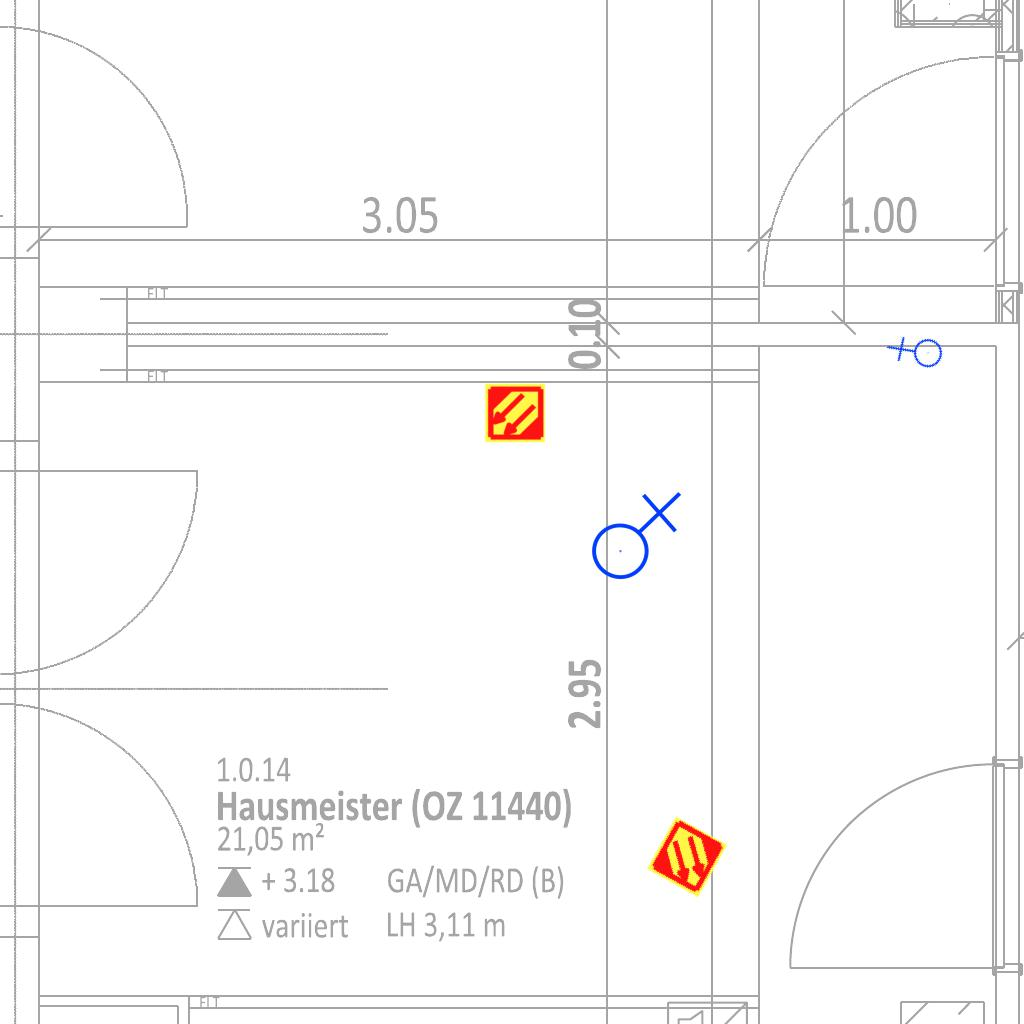ASR_Ansaugrauchmelder: (644, 814, 730, 900), (484, 382, 546, 444)
Elektroanschluss_allgemein_230V_Geraeteanschlussdose_230V: (583, 487, 682, 581), (883, 319, 952, 388)
